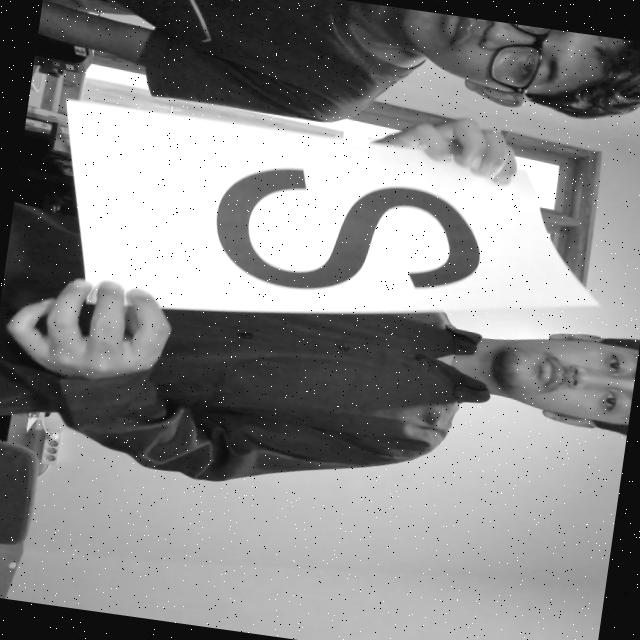s: (200, 153, 498, 317)
